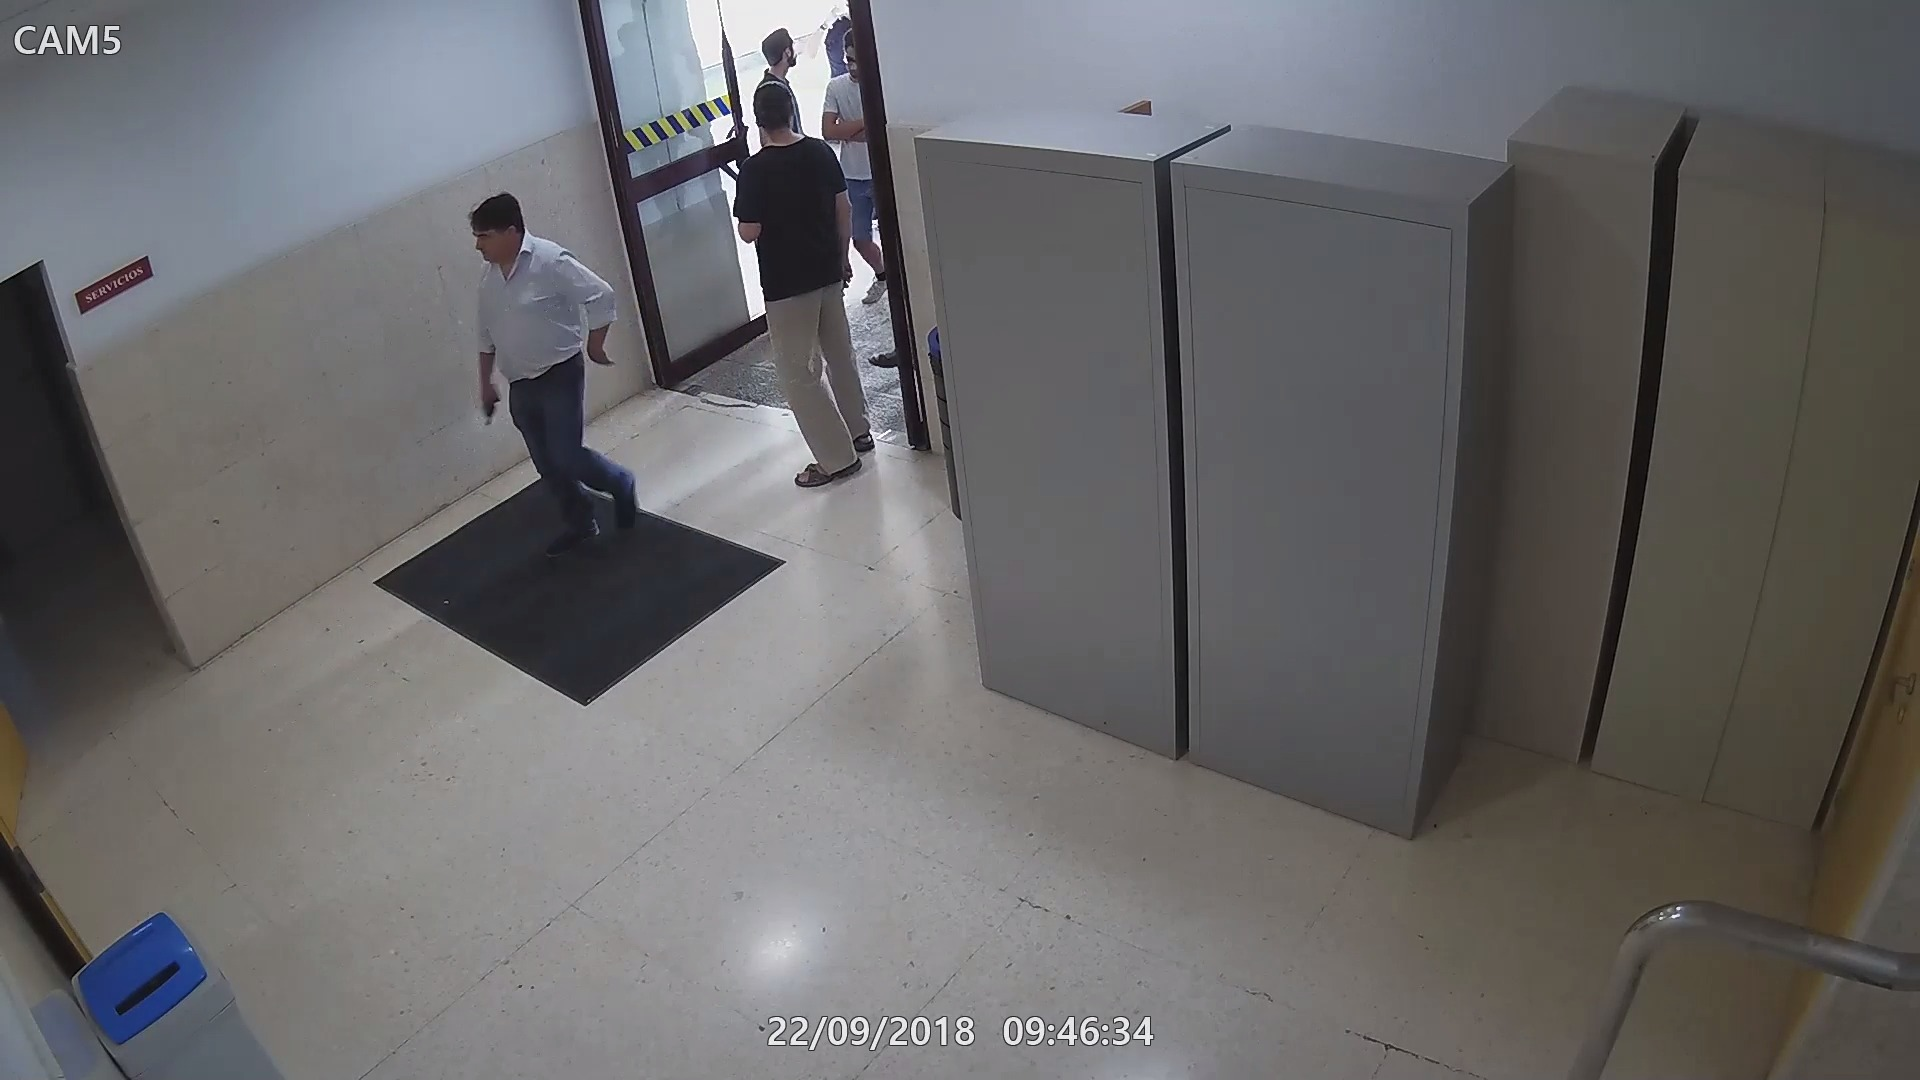Handgun: (477, 378, 504, 426)
